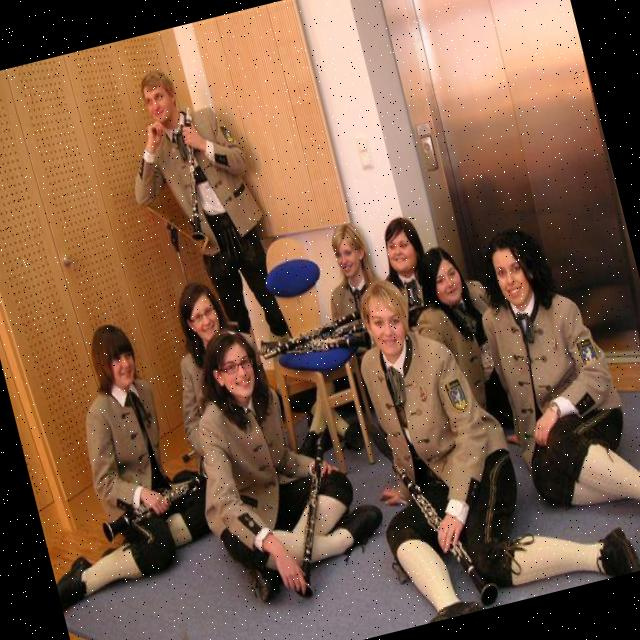clarinet: (386, 436, 504, 622), (256, 422, 364, 601), (90, 464, 238, 551), (157, 105, 225, 246), (254, 308, 380, 379), (254, 305, 378, 362)
